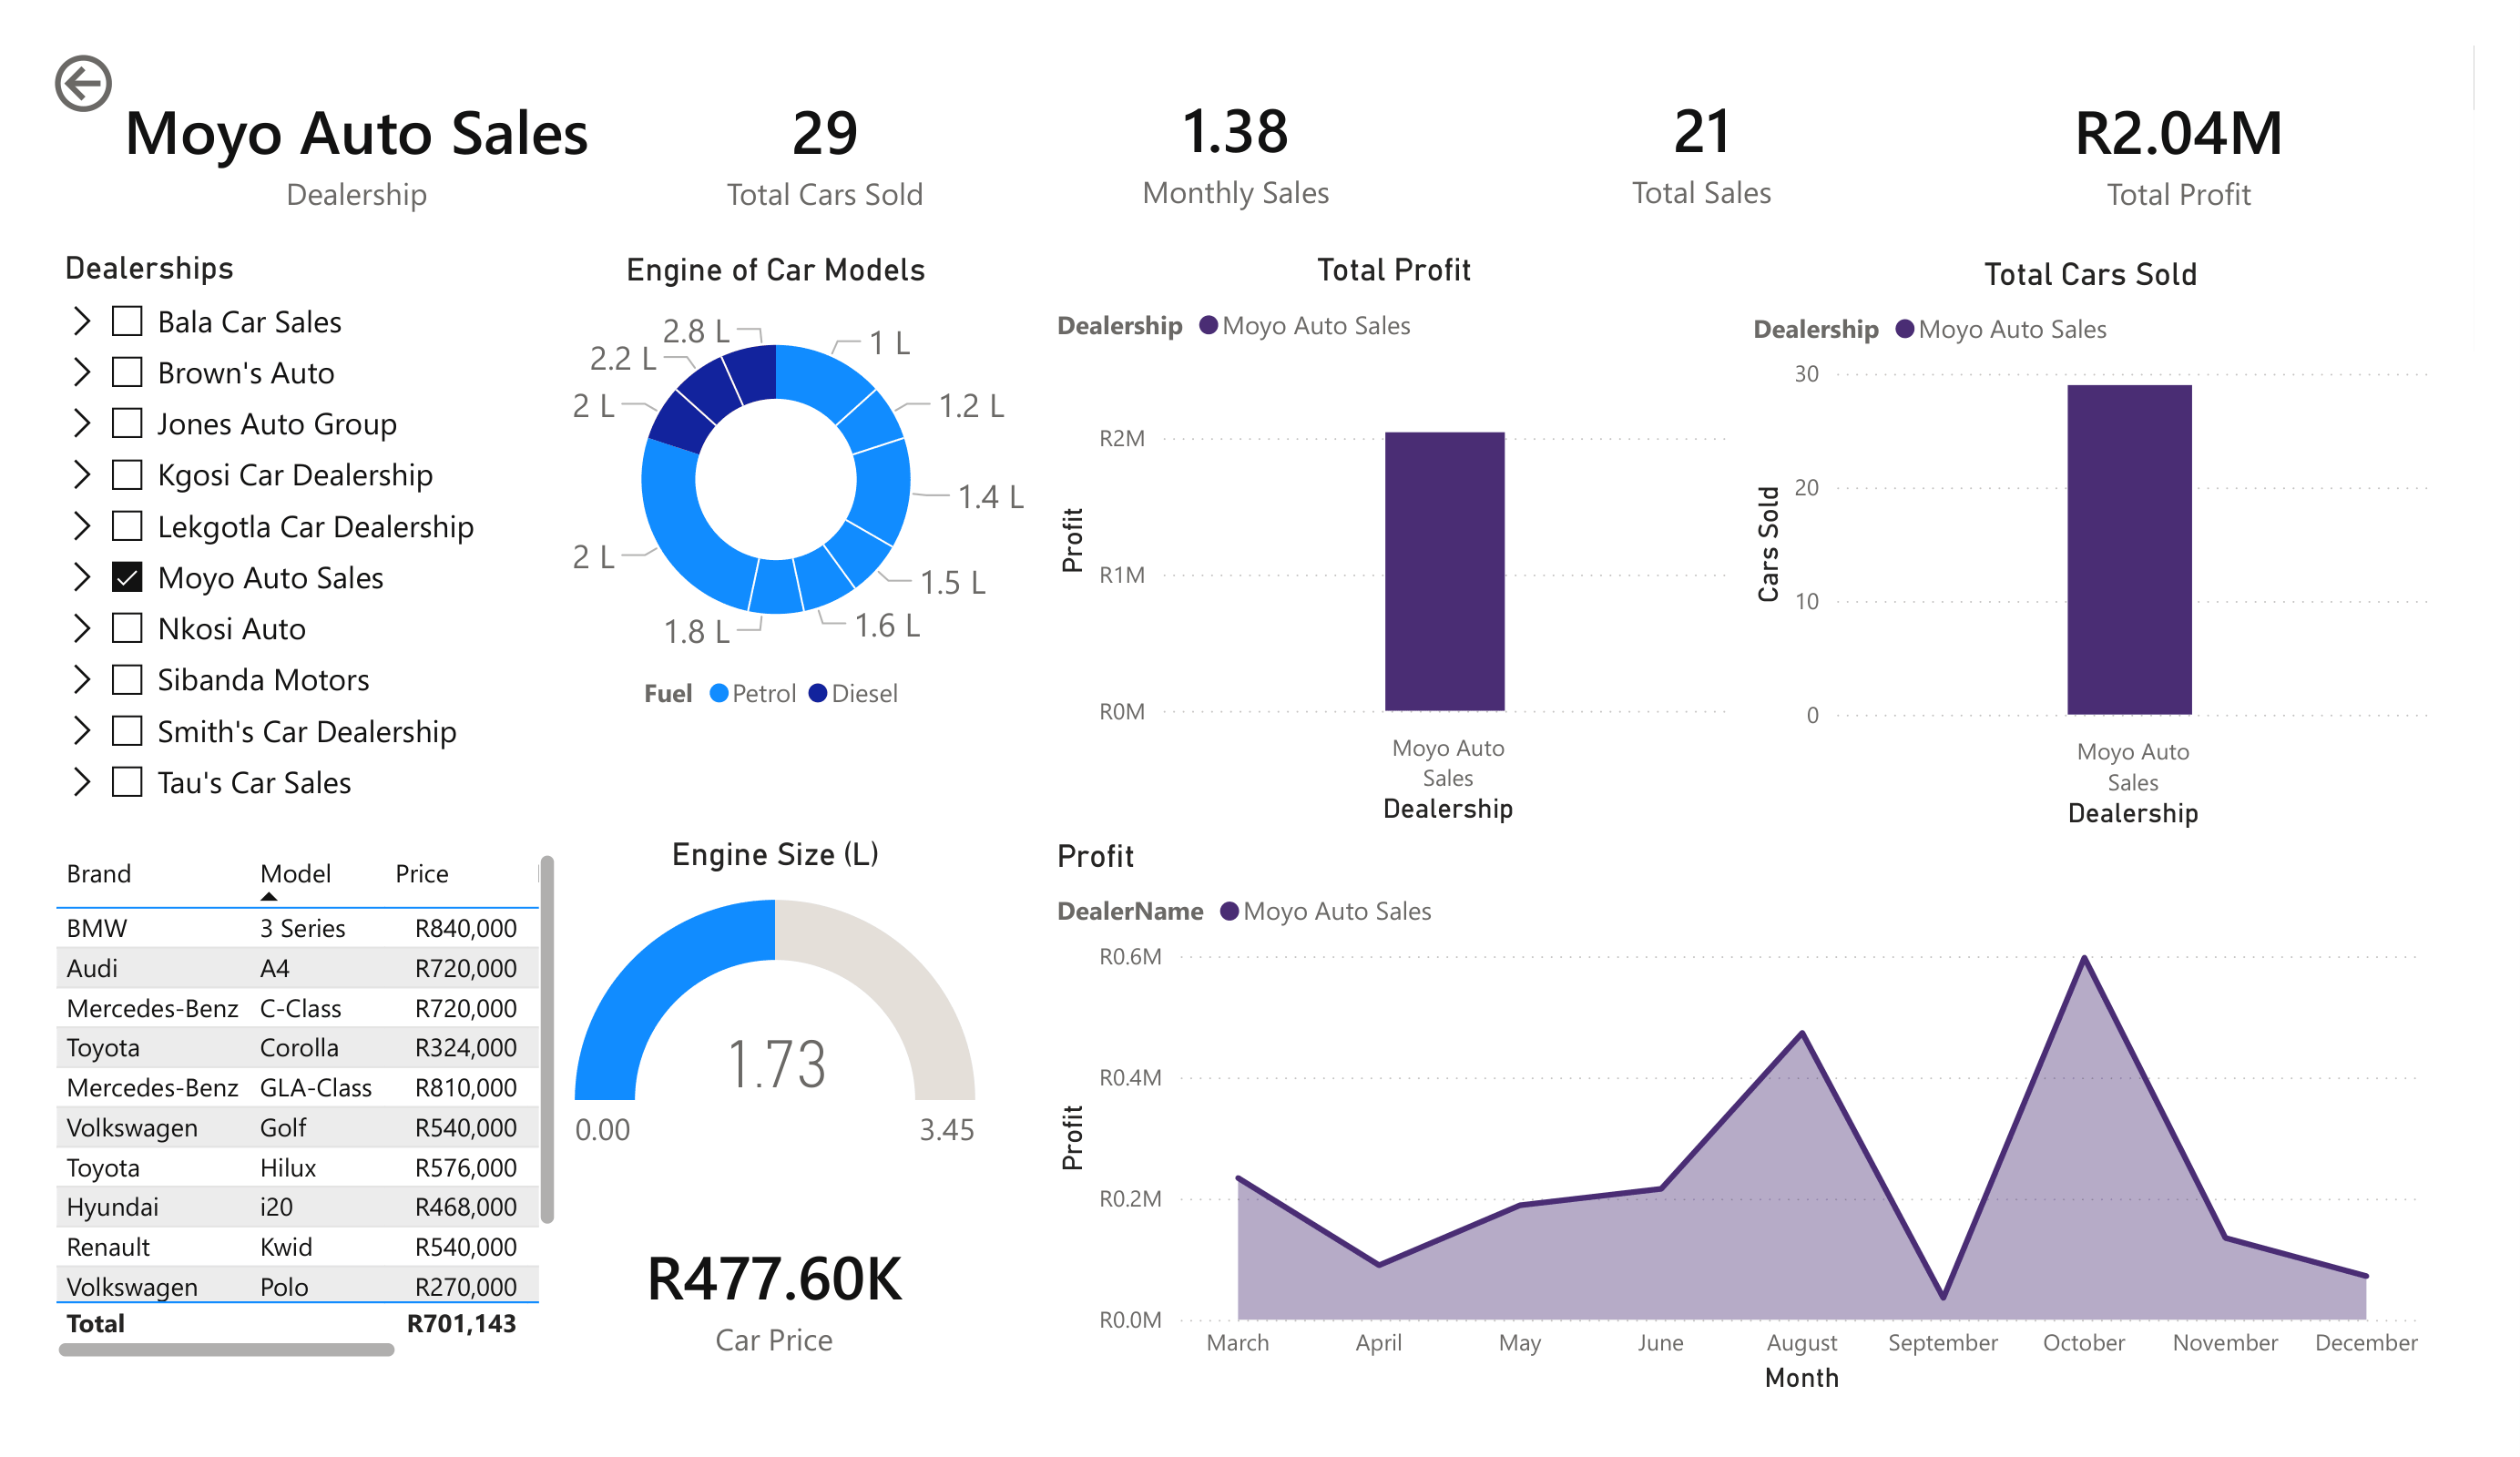

The page's visual inventory and layout, read from the dashboard file:
{"tool":"powerbi","page":{"name":"Page 1","canvas":[1280,720],"ordinal":0},"visuals":[{"type":"cardVisual","fields":{"Data":["CountNonNull(Sales.Quantity)"]},"box":[801.4,0,144.1,109.8],"z":0},{"type":"cardVisual","fields":{"Data":["Sum(Sales.Quantity)"]},"box":[327.7,0,166.3,110.1],"z":1000},{"type":"cardVisual","fields":{"Data":["Sum(Sales.Total Profit (ZAR))"]},"box":[1012.7,0,212.7,109.8],"z":2000},{"type":"tableEx","fields":{"Values":["Models.Brand","Models.Model","Models.Price (ZAR)"]},"box":[9.6,362.3,262.1,355.4],"z":3000},{"type":"cardVisual","fields":{"Data":["Avg(Sales.Quantity)"]},"box":[548.9,0,157.8,109.8],"z":4000},{"type":"cardVisual","fields":{"Data":["Min(Dealers.DealerName)"]},"box":[23.2,0,265.4,110.1],"z":5000},{"type":"donutChart","title":"Fuel Type of Car Models","fields":{"Category":["Models.Fuel"],"Y":["CountNonNull(Models.Fuel)"],"Series":["Models.Engine Sizes (L)"]},"box":[242.1,107.6,286.1,251.9],"z":6000},{"type":"tableEx","fields":{"Values":["Dealers.DealerID","Dealers.DealerName"]},"box":[9.8,99,232.3,249.5],"z":7000},{"type":"gauge","fields":{"Y":["Avg(Models.EngineSize (L))"]},"box":[273.9,414.5,221.3,187.1],"z":8000},{"type":"columnChart","title":"Total Profit","fields":{"Category":["Dealers.DealerName","Sales.Date.Variation.Date Hierarchy.Month","Dealers.City","Models.Brand","Models.Model"],"Y":["Sum(Sales.Total Profit (ZAR))"],"Series":["Dealers.DealerName"]},"box":[528.3,107.6,365.6,306.9],"z":9000},{"type":"columnChart","title":"Total Cars Sold","fields":{"Category":["Dealers.DealerName","Dealers.City","Models.Segment","Models.Model"],"Y":["Sum(Sales.Quantity)"],"Series":["Dealers.DealerName"]},"box":[894.7,109.8,366.4,307.4],"z":10000},{"type":"actionButton","box":[0,0,100,40],"z":11000},{"type":"lineChart","title":"Monthly Profit (ZAR)","fields":{"Category":["Sales.Date.Variation.Date Hierarchy.Month","Dealers.Country","Dealers.City"],"Series":["Dealers.DealerName"],"Y":["Avg(Sales.Total Profit (ZAR))"]},"box":[528.3,417.2,731.4,303.3],"z":12000},{"type":"cardVisual","fields":{"Data":["Avg(Models.Price (ZAR))"]},"box":[271.5,584.5,216.4,135.7],"z":13000}]}

Visuals, with their boxes on the page's 1280x720 design canvas (x1, y1, x2, y2). These are canvas units, not pixel positions in the 2520x1457 screenshot, which may show the page scaled, cropped or inside an application window:
cardVisual - CountNonNull(Sales.Quantity): [left=801, top=0, right=946, bottom=110]
cardVisual - Sum(Sales.Quantity): [left=328, top=0, right=494, bottom=110]
cardVisual - Sum(Sales.Total Profit (ZAR)): [left=1013, top=0, right=1225, bottom=110]
tableEx - Models.Brand x Models.Model: [left=10, top=362, right=272, bottom=718]
cardVisual - Avg(Sales.Quantity): [left=549, top=0, right=707, bottom=110]
cardVisual - Min(Dealers.DealerName): [left=23, top=0, right=289, bottom=110]
"Fuel Type of Car Models" donutChart: [left=242, top=108, right=528, bottom=360]
tableEx - Dealers.DealerID x Dealers.DealerName: [left=10, top=99, right=242, bottom=348]
gauge - Avg(Models.EngineSize (L)): [left=274, top=414, right=495, bottom=602]
"Total Profit" columnChart: [left=528, top=108, right=894, bottom=414]
"Total Cars Sold" columnChart: [left=895, top=110, right=1261, bottom=417]
actionButton: [left=0, top=0, right=100, bottom=40]
"Monthly Profit (ZAR)" lineChart: [left=528, top=417, right=1260, bottom=720]
cardVisual - Avg(Models.Price (ZAR)): [left=272, top=584, right=488, bottom=720]
